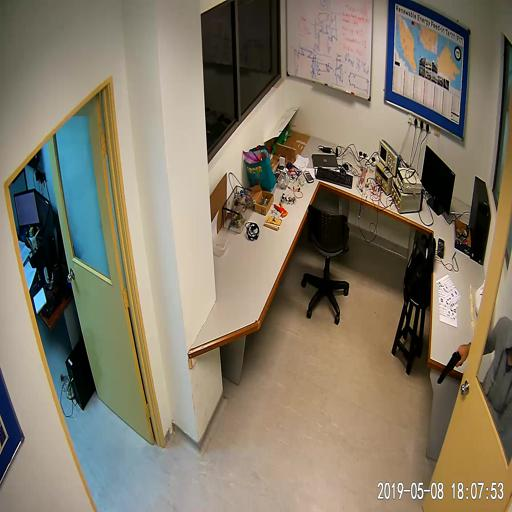pistol: (435, 347, 464, 386)
